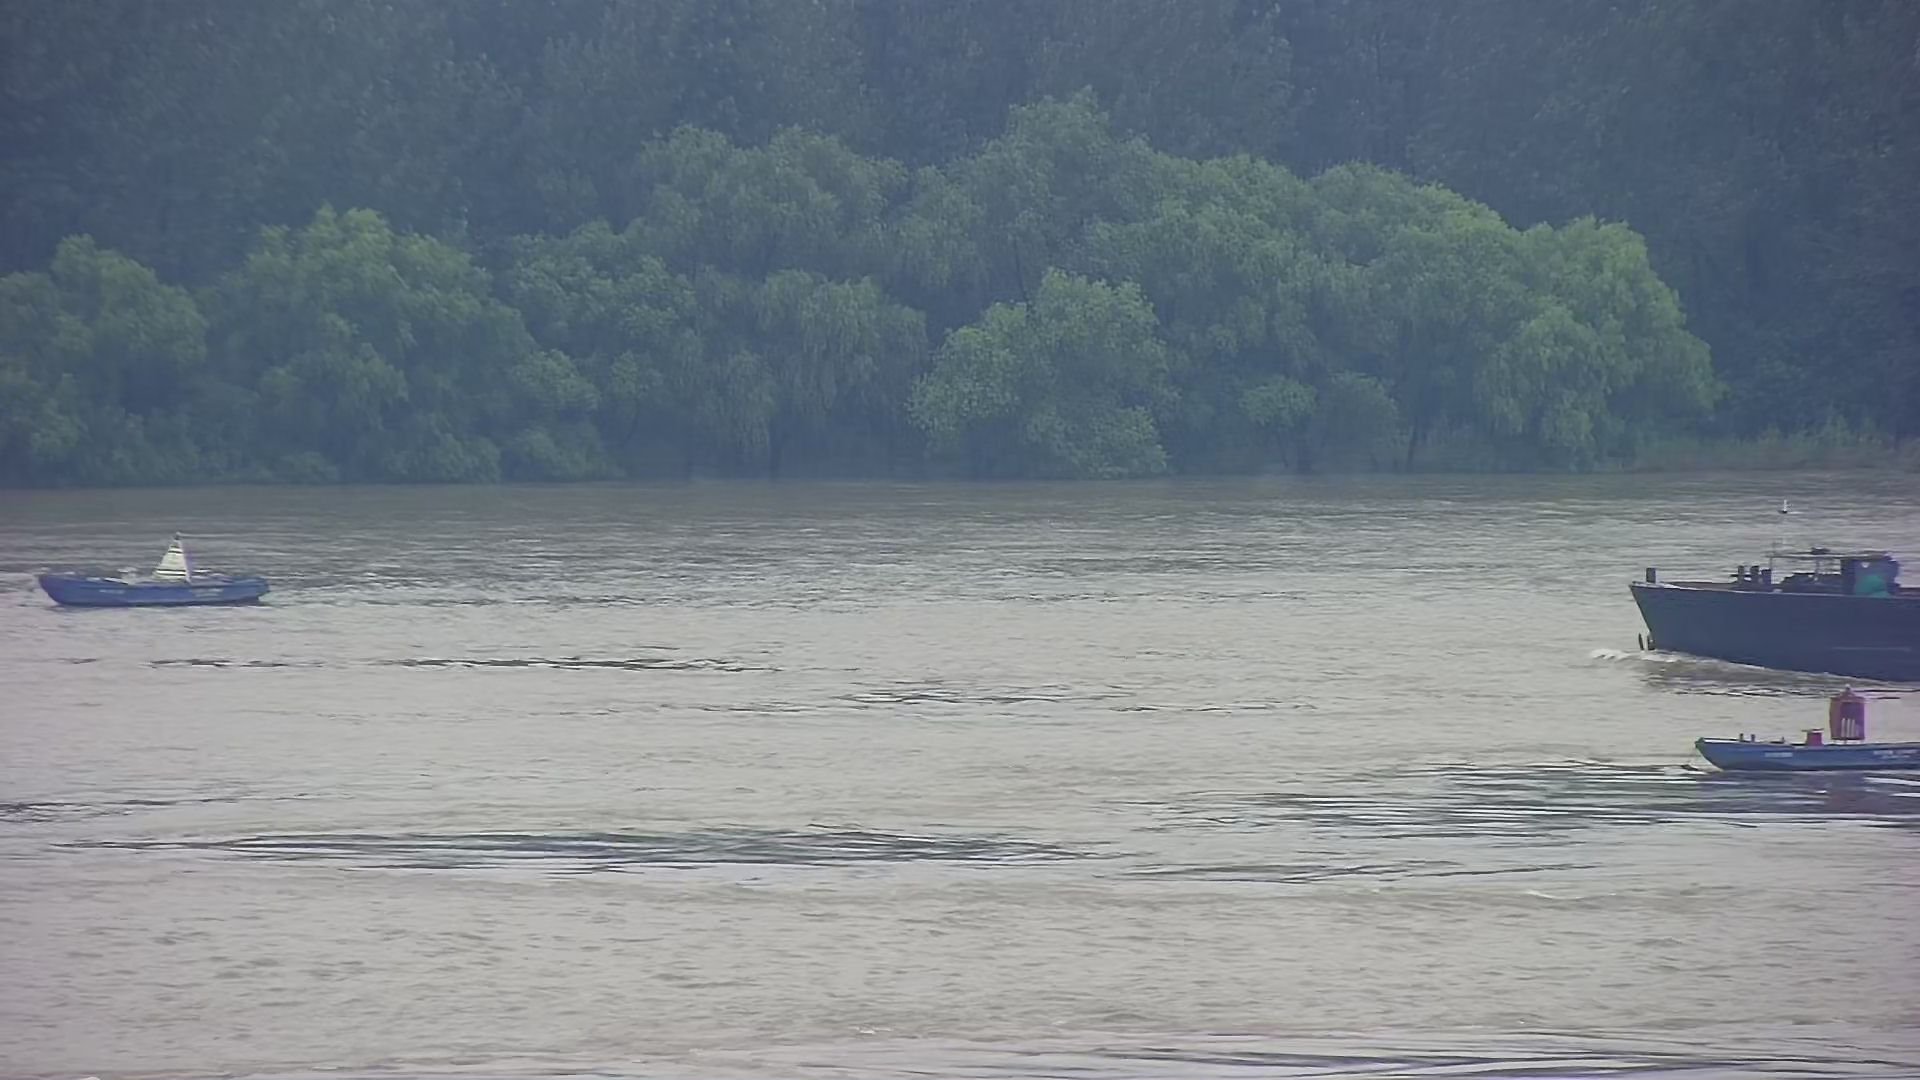boat: (1695, 673, 1920, 793), (26, 510, 277, 617)
ship: (1604, 475, 1919, 684)
